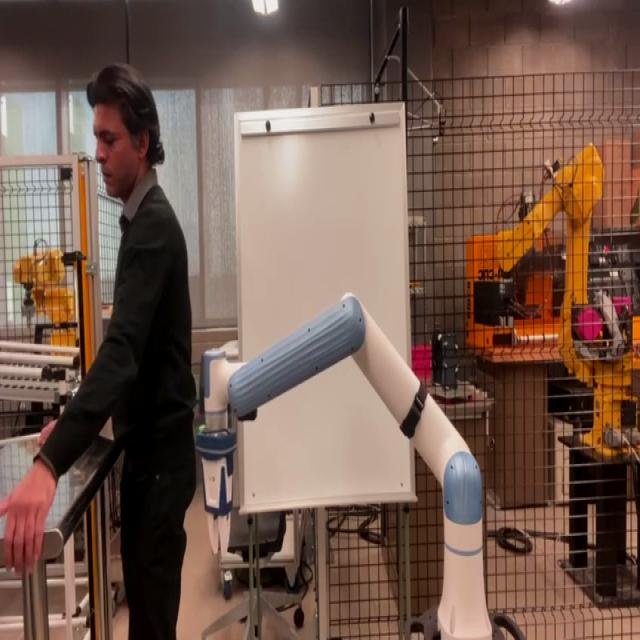robot: (197, 291, 526, 637)
